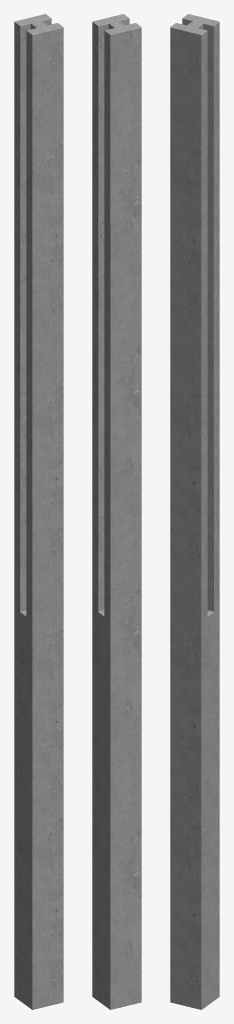
3 views of the same model, side by side, from view 1: azimuth 30°, elevation 25°; view 2: azimuth 210°, elevation 25°; view 3: azimuth 330°, elevation 25° (orthographic).
Parts seen in each view (by area): view 1: Box003; view 2: Box003; view 3: Box003.
Part boxes in pixels (x1,y1,x2,y2): Box003: (14, 14, 63, 1009); Box003: (92, 14, 141, 1009); Box003: (170, 14, 219, 1009).
Bounding box in the file's own units: 0.12 × 3.53 × 0.12.
1 material, 1 textured.
